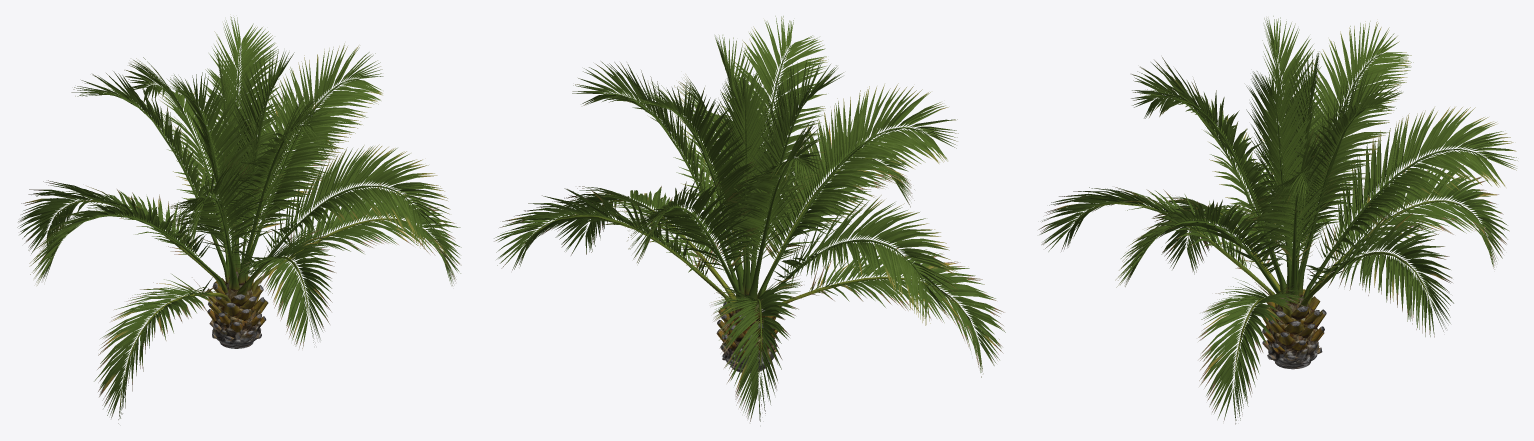
File: palmera_canaria.glb
3 views of the same model, side by side, from view 1: azimuth 30°, elevation 25°; view 2: azimuth 150°, elevation 25°; view 3: azimuth 270°, elevation 25° (orthographic). The views are drawn at different scales.
Visible parts, largest first — view 1: Phoenix_canariensis_HD_Phoenix leaflet young_0, Phoenix_canariensis_HD_Phoenix leaflet average_0, Phoenix_canariensis_HD_Phoenix leaf stk_0, Phoenix_canariensis_HD_Phoenix leaflet average 02_0, Phoenix_canariensis_HD_Phoenix crownshaft RT_0, Phoenix_canariensis_HD_Phoenix dead stk 07_0, Phoenix_canariensis_HD_Phoenix leaf stk 03_0, Phoenix_canariensis_HD_Phoenix leaf stk 04_0; view 2: Phoenix_canariensis_HD_Phoenix leaflet young_0, Phoenix_canariensis_HD_Phoenix leaflet average_0, Phoenix_canariensis_HD_Phoenix leaf stk_0, Phoenix_canariensis_HD_Phoenix leaflet average 02_0, Phoenix_canariensis_HD_Phoenix leaf stk 04_0, Phoenix_canariensis_HD_Phoenix leaf stk 03_0, Phoenix_canariensis_HD_Phoenix crownshaft RT_0; view 3: Phoenix_canariensis_HD_Phoenix leaflet young_0, Phoenix_canariensis_HD_Phoenix leaflet average_0, Phoenix_canariensis_HD_Phoenix leaf stk_0, Phoenix_canariensis_HD_Phoenix leaflet average 02_0, Phoenix_canariensis_HD_Phoenix crownshaft RT_0, Phoenix_canariensis_HD_Phoenix leaf stk 04_0, Phoenix_canariensis_HD_Phoenix dead stk 07_0.
Part boxes in pixels (left/top/right/bottom): Phoenix_canariensis_HD_Phoenix leaflet young_0: left=29, top=16, right=450, bottom=285; Phoenix_canariensis_HD_Phoenix leaflet average_0: left=17, top=88, right=461, bottom=423; Phoenix_canariensis_HD_Phoenix leaf stk_0: left=56, top=44, right=420, bottom=292; Phoenix_canariensis_HD_Phoenix leaflet average 02_0: left=21, top=95, right=451, bottom=413; Phoenix_canariensis_HD_Phoenix crownshaft RT_0: left=212, top=271, right=260, bottom=348; Phoenix_canariensis_HD_Phoenix dead stk 07_0: left=207, top=276, right=268, bottom=316; Phoenix_canariensis_HD_Phoenix leaf stk 03_0: left=122, top=218, right=427, bottom=382; Phoenix_canariensis_HD_Phoenix leaf stk 04_0: left=51, top=124, right=308, bottom=315; Phoenix_canariensis_HD_Phoenix leaflet young_0: left=572, top=16, right=958, bottom=325; Phoenix_canariensis_HD_Phoenix leaflet average_0: left=494, top=85, right=1005, bottom=421; Phoenix_canariensis_HD_Phoenix leaf stk_0: left=603, top=45, right=928, bottom=312; Phoenix_canariensis_HD_Phoenix leaflet average 02_0: left=502, top=123, right=1003, bottom=391; Phoenix_canariensis_HD_Phoenix leaf stk 04_0: left=526, top=158, right=876, bottom=372; Phoenix_canariensis_HD_Phoenix leaf stk 03_0: left=591, top=200, right=972, bottom=325; Phoenix_canariensis_HD_Phoenix crownshaft RT_0: left=722, top=297, right=775, bottom=372; Phoenix_canariensis_HD_Phoenix leaflet young_0: left=1115, top=16, right=1517, bottom=287; Phoenix_canariensis_HD_Phoenix leaflet average_0: left=1038, top=128, right=1509, bottom=424; Phoenix_canariensis_HD_Phoenix leaf stk_0: left=1140, top=52, right=1486, bottom=309; Phoenix_canariensis_HD_Phoenix leaflet average 02_0: left=1045, top=163, right=1498, bottom=380; Phoenix_canariensis_HD_Phoenix crownshaft RT_0: left=1267, top=293, right=1319, bottom=369; Phoenix_canariensis_HD_Phoenix leaf stk 04_0: left=1071, top=200, right=1479, bottom=307; Phoenix_canariensis_HD_Phoenix dead stk 07_0: left=1267, top=289, right=1325, bottom=346.
Bounding box in the file's own units: 7.2 × 5 × 6.88.
Materials: 15 (15 with a texture image).
